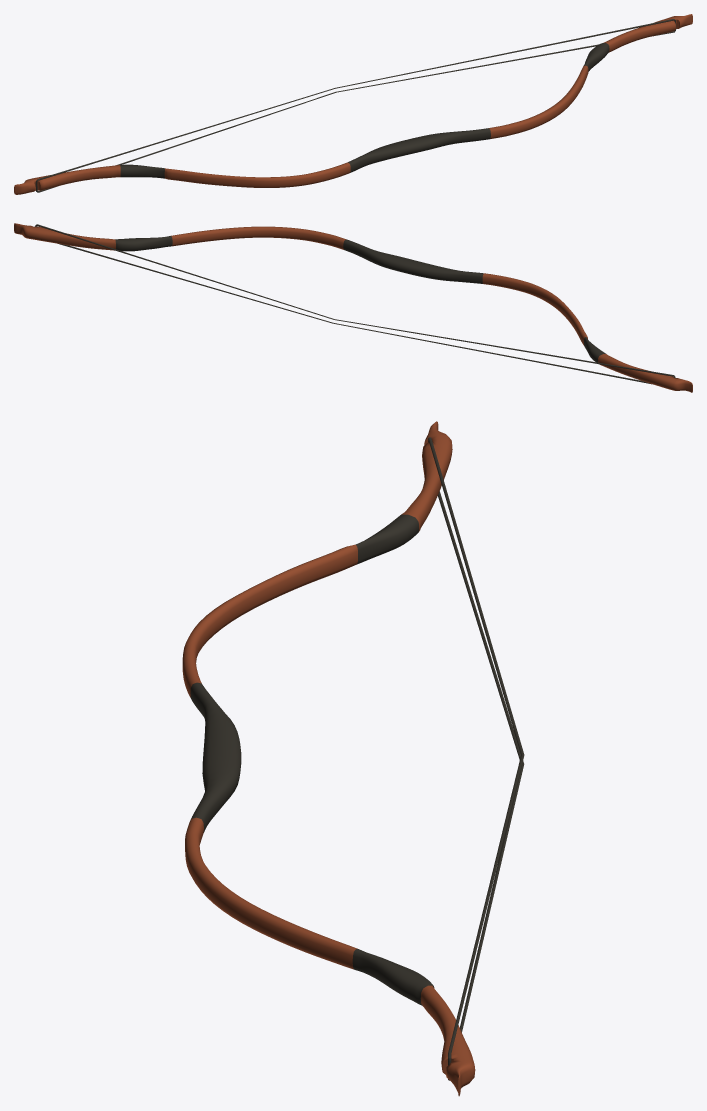
3 renders of one model, top to bottom at view 1: azimuth 30°, elevation 25°; view 2: azimuth 150°, elevation 25°; view 3: azimuth 270°, elevation 25°, orthographic. The views are drawn at different scales.
Parts seen in each view (by area): view 1: 96.2, 96.secondstep; view 2: 96.2, 96.secondstep; view 3: 96.2, 96.secondstep.
Part boxes in pixels (x1,y1,x2,y2): 96.2: (14, 14, 692, 194); 96.secondstep: (35, 19, 676, 192); 96.2: (14, 223, 692, 392); 96.secondstep: (35, 224, 675, 384); 96.2: (182, 421, 475, 1096); 96.secondstep: (428, 437, 524, 1080).
Size of the model in its own units: 76.03 by 1.48 by 16.7.
